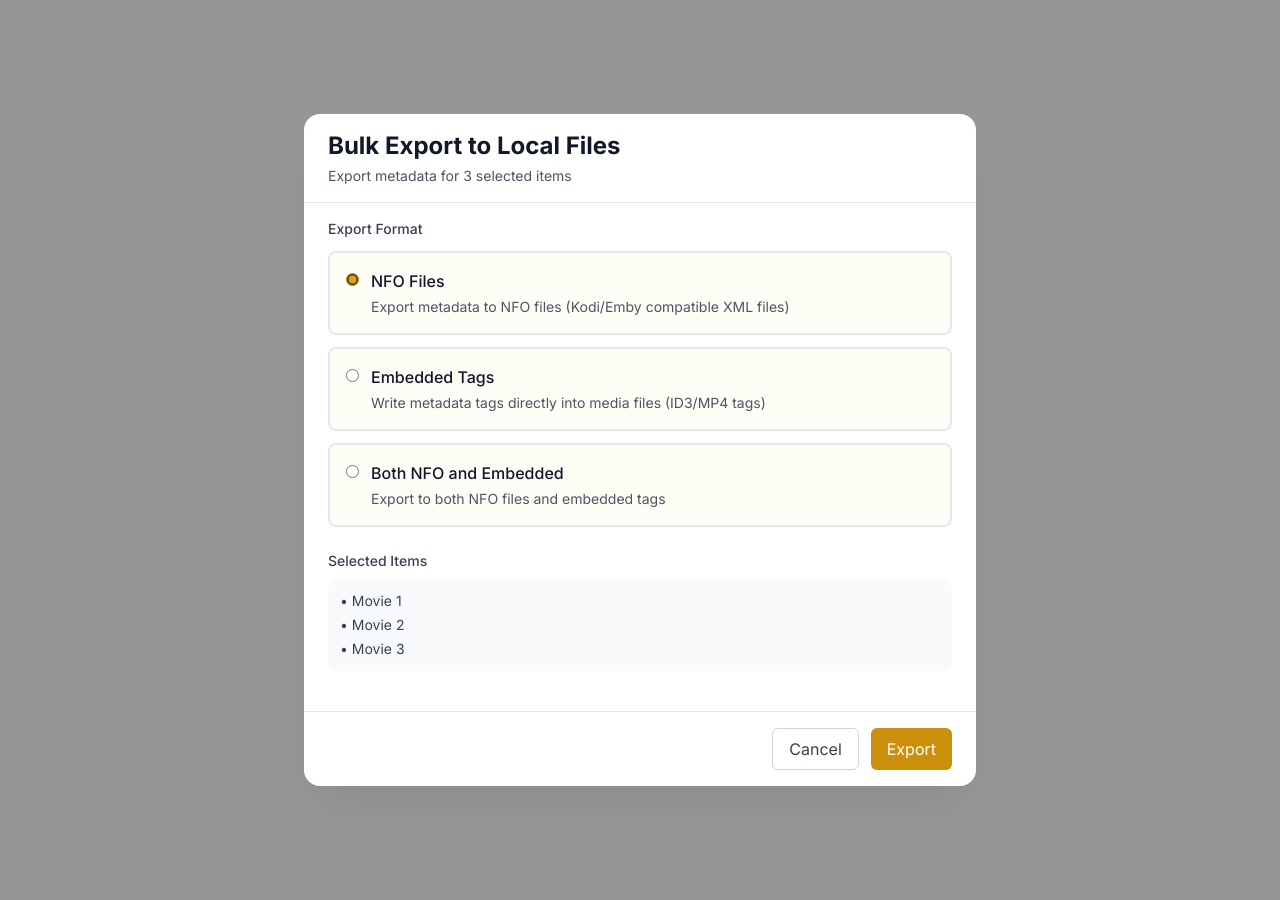
it: BulkExportModal › should display partial success results
Click the button "Export". click: (911, 749)
box: [871,728,952,770]
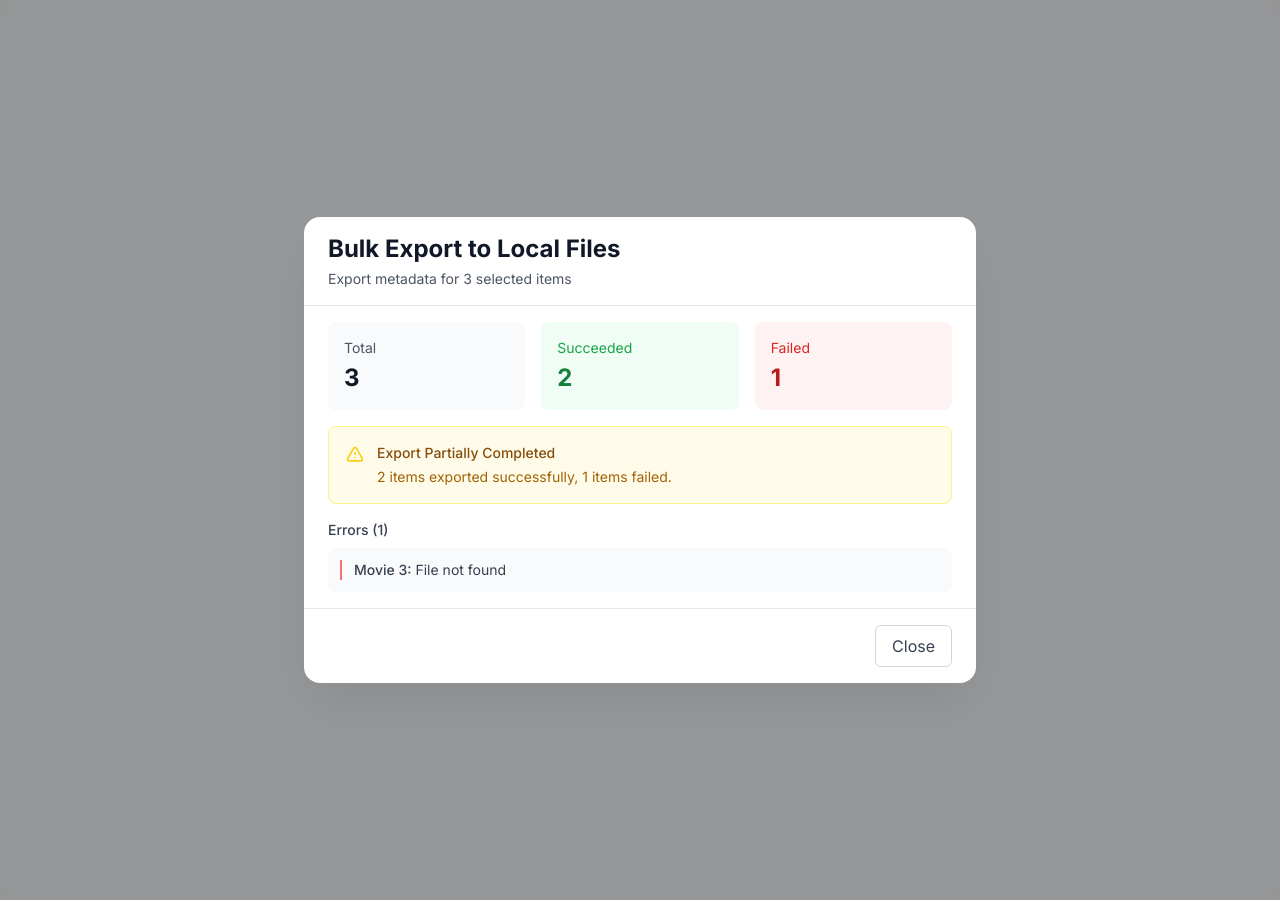
Check: the text "Export Partially Completed" is shown, box [377,444,555,461]
Check: the text "2 items exported successfully, 1 items failed." is shown, box [377,467,672,487]
